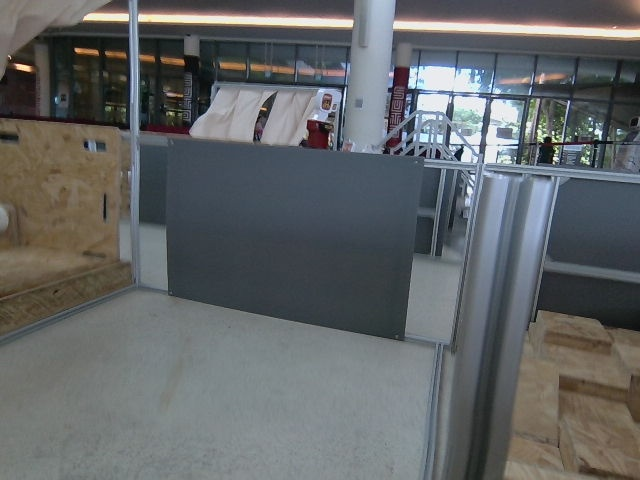curtain: (192, 82, 320, 144)
